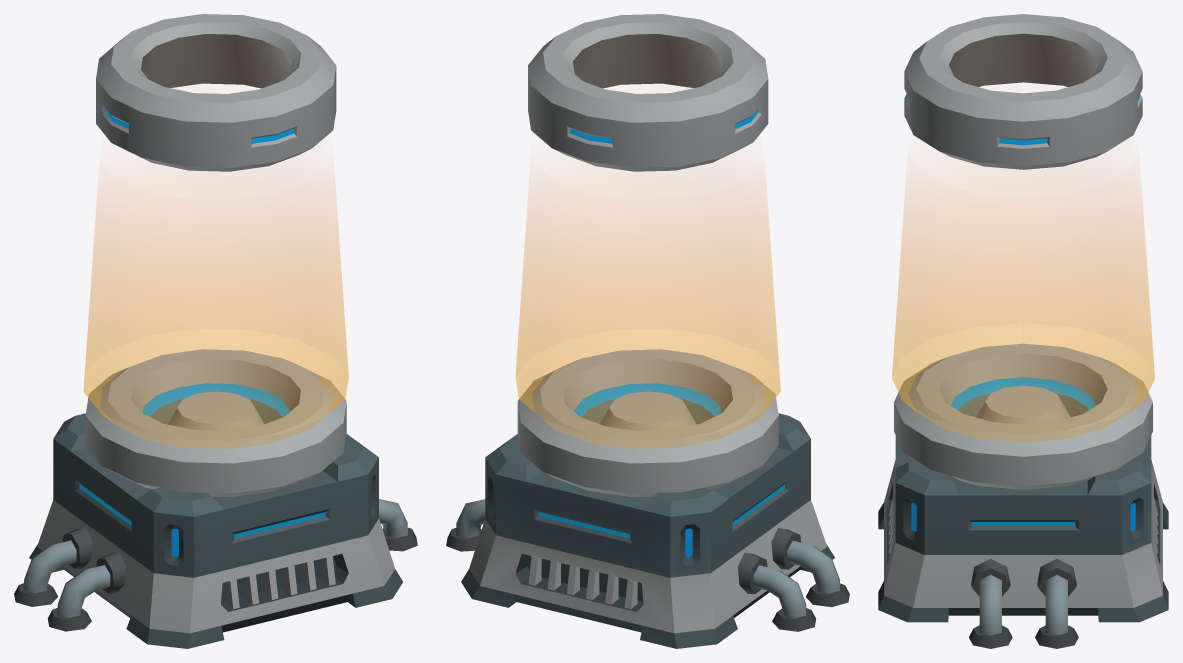
The picture shows the model from 3 angles, left to right: view 1: azimuth 30°, elevation 25°; view 2: azimuth 150°, elevation 25°; view 3: azimuth 270°, elevation 25°; orthographic projection.
Visible parts, largest first — view 1: Сapsule_011, Сapsule_006; view 2: Сapsule_011, Сapsule_006; view 3: Сapsule_011, Сapsule_006.
Boxes of the visible parts, x1=… form: Сapsule_011: x1=83, y1=14, x2=348, y2=497; Сapsule_006: x1=14, y1=413, x2=417, y2=648; Сapsule_011: x1=515, y1=14, x2=780, y2=497; Сapsule_006: x1=446, y1=413, x2=849, y2=648; Сapsule_011: x1=892, y1=14, x2=1154, y2=489; Сapsule_006: x1=878, y1=436, x2=1168, y2=648.
Bounding box in the file's own units: 1.58 × 2.1 × 1.1.
Materials: 3 (3 with a texture image).
